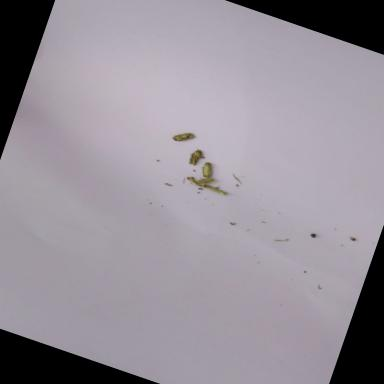pbw: (171, 128, 194, 146), (202, 182, 228, 196), (186, 148, 202, 168), (198, 162, 214, 180), (197, 174, 214, 187), (185, 176, 203, 188)
